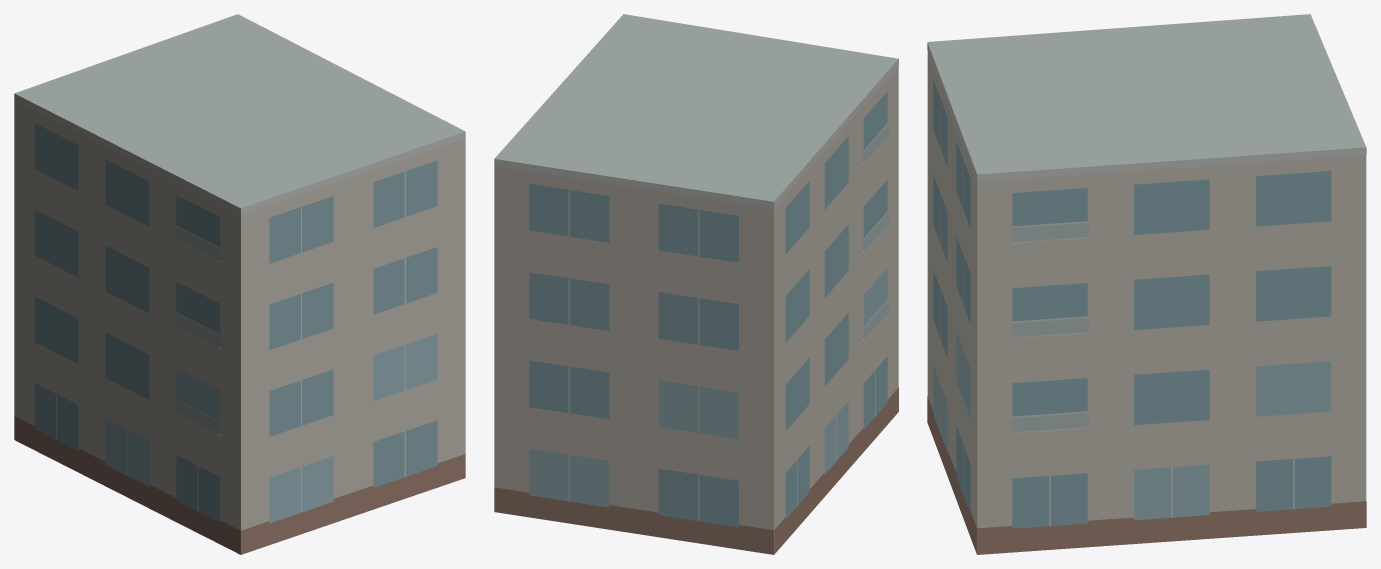
File: survey-upis-32457061.glb
3 renders of one model, left to right at view 1: azimuth 30°, elevation 25°; view 2: azimuth 150°, elevation 25°; view 3: azimuth 270°, elevation 25°, orthographic. The views are drawn at different scales.
Parts seen in each view (by area): view 1: survey-upis-32457061.tmp; view 2: survey-upis-32457061.tmp; view 3: survey-upis-32457061.tmp.
Boxes of the visible parts, left/top/right/bottom form: survey-upis-32457061.tmp: left=14, top=14, right=465, bottom=554; survey-upis-32457061.tmp: left=494, top=14, right=898, bottom=554; survey-upis-32457061.tmp: left=927, top=14, right=1366, bottom=554.
Bounding box in the file's own units: 11.05 × 12.2 × 12.77.
